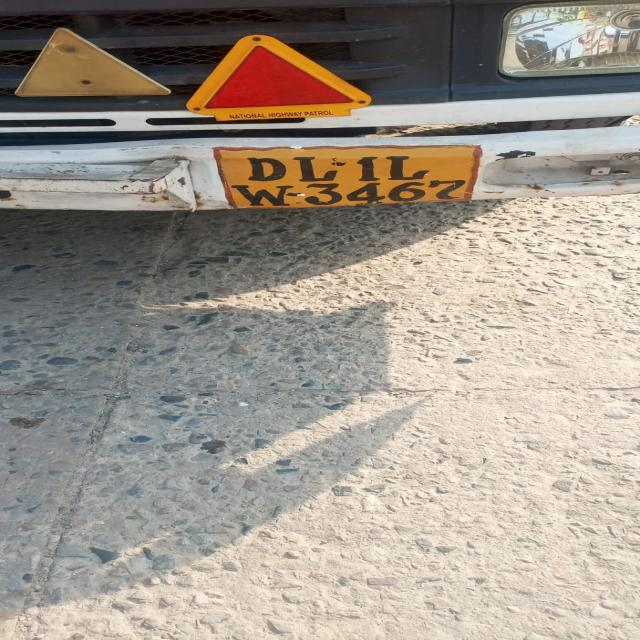License-plate: (217, 143, 491, 210)
